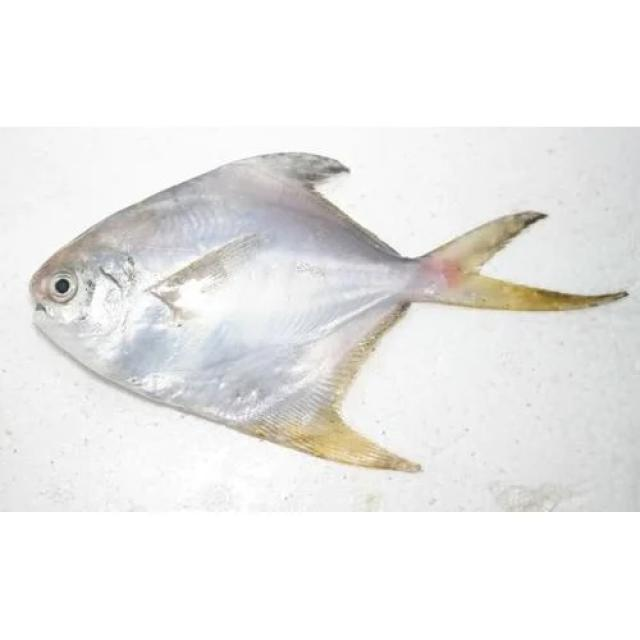pomfred: (30, 152, 630, 472)
